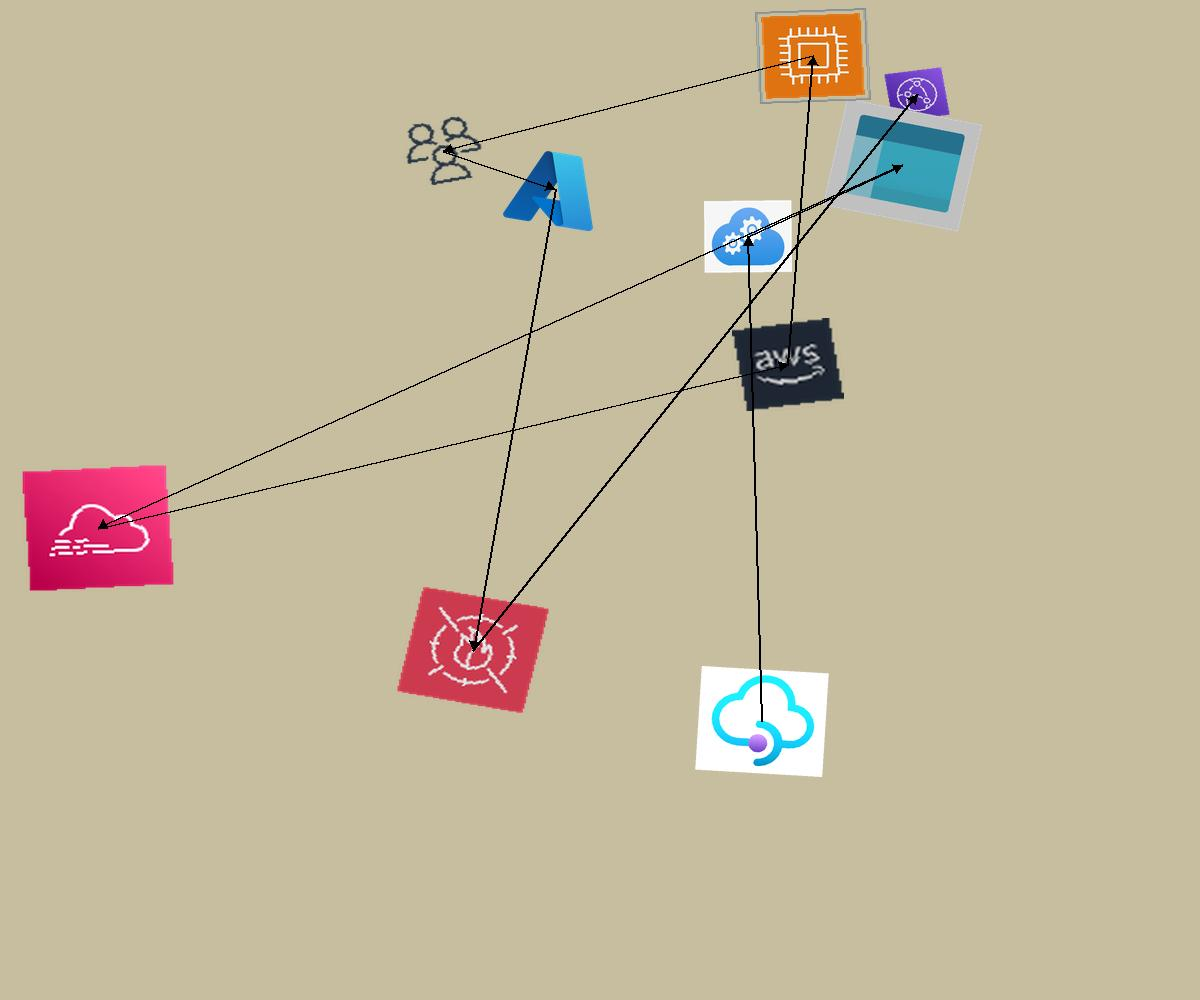AWS-Category_Compute: (755, 8, 871, 104)
AWS-Cloud-logo: (732, 318, 844, 411)
AWS-CloudFront: (884, 67, 950, 122)
AWS-CloudTrail: (21, 464, 175, 592)
AWS-Res_Users: (394, 110, 493, 192)
AWS-WAF: (396, 586, 550, 714)
Azure_api_gateway: (695, 666, 829, 777)
Azure_cloud_services: (704, 200, 792, 273)
Azure_management-portal: (822, 98, 983, 232)
Azure_services: (497, 140, 614, 238)
